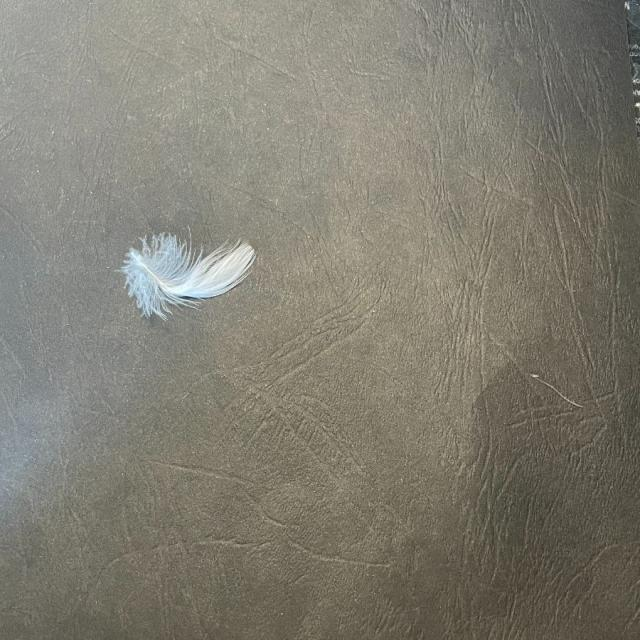feather: (121, 230, 257, 316)
